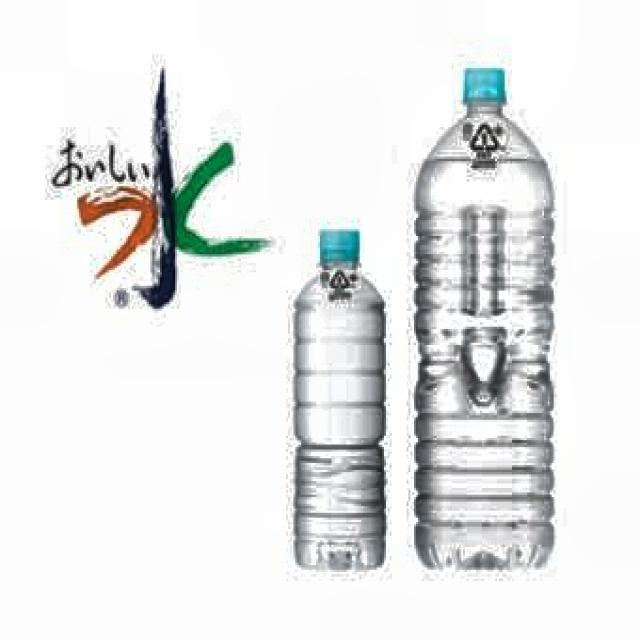plastic bottle: (418, 68, 555, 569), (296, 229, 386, 571)
